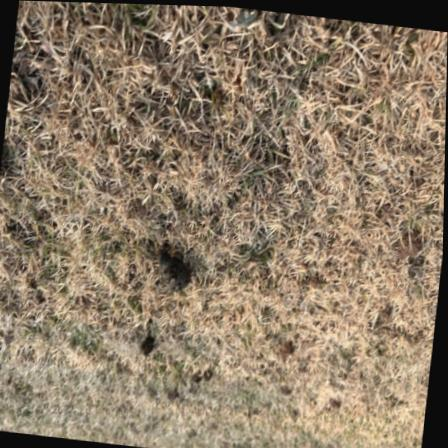dog-poop: (146, 241, 195, 298)
